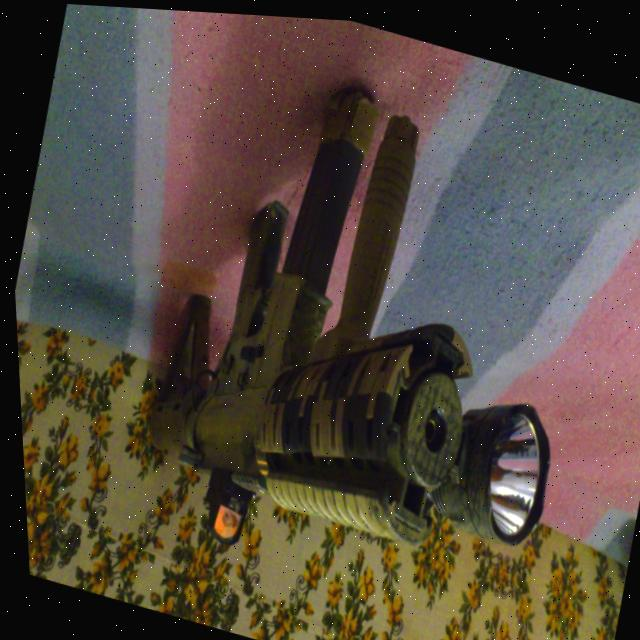firearm: (114, 37, 626, 627)
